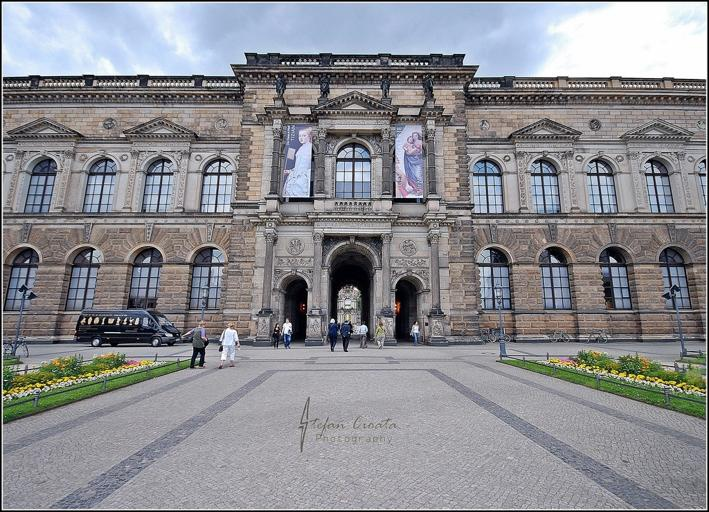non-vehicle: (3, 336, 29, 357), (549, 328, 570, 343), (586, 328, 607, 343), (361, 335, 365, 347)
